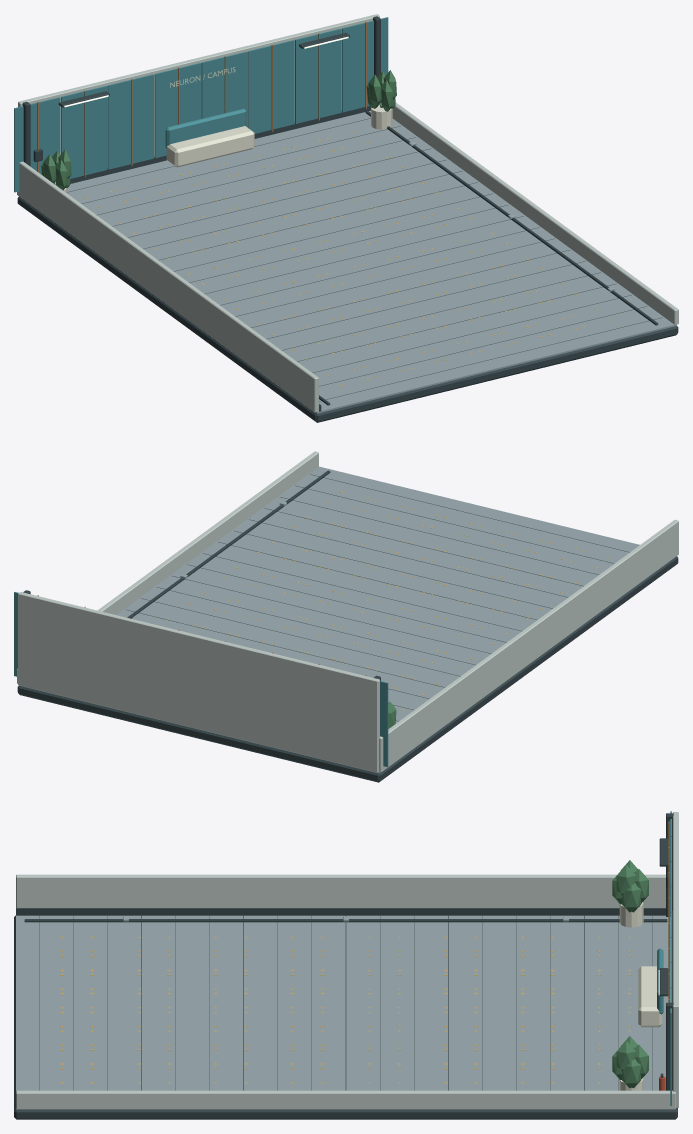
The model's file is campus.glb.
The picture shows the model from 3 angles, top to bottom: view 1: azimuth 30°, elevation 25°; view 2: azimuth 150°, elevation 25°; view 3: azimuth 270°, elevation 25°; orthographic projection. The views are drawn at different scales.
Parts seen in each view (by area): view 1: 01 / mineral floor, 08 / glass, 02 / painted plaster, 03 / charcoal steel, 06 / ivory, 10 / foliage, 11 / safety paint, 05 / warm oak; view 2: 01 / mineral floor, 02 / painted plaster, 03 / charcoal steel, 08 / glass, 11 / safety paint; view 3: 01 / mineral floor, 02 / painted plaster, 03 / charcoal steel, 10 / foliage, 06 / ivory, 11 / safety paint, 08 / glass.
Part boxes in pixels (box(x1,y1,x2,y2)): 01 / mineral floor: box(67, 110, 676, 413); 08 / glass: box(14, 17, 388, 192); 02 / painted plaster: box(17, 14, 678, 412); 03 / charcoal steel: box(17, 16, 678, 422); 06 / ivory: box(55, 67, 392, 193); 10 / foliage: box(41, 70, 396, 190); 11 / safety paint: box(84, 131, 611, 386); 05 / warm oak: box(37, 22, 366, 177); 01 / mineral floor: box(116, 466, 639, 773); 02 / painted plaster: box(17, 451, 678, 772); 03 / charcoal steel: box(17, 470, 678, 782); 08 / glass: box(14, 592, 388, 766); 11 / safety paint: box(167, 491, 611, 710); 01 / mineral floor: box(16, 915, 675, 1109); 02 / painted plaster: box(16, 812, 678, 1109); 03 / charcoal steel: box(14, 813, 677, 1119); 10 / foliage: box(612, 860, 648, 1088); 06 / ivory: box(619, 902, 662, 1090); 11 / safety paint: box(60, 936, 631, 1083); 08 / glass: box(657, 811, 671, 1105).
Size of the model in its own units: 14.01 by 3.68 by 19.5.
